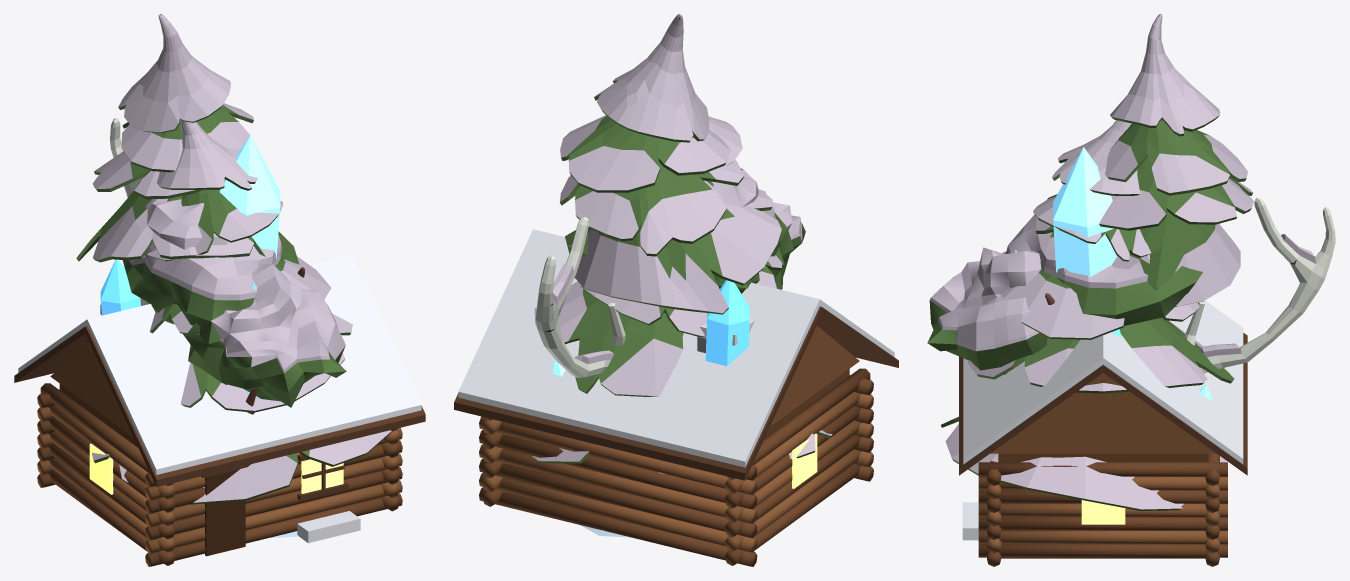
File: snow.glb
3 views of the same model, side by side, from view 1: azimuth 30°, elevation 25°; view 2: azimuth 150°, elevation 25°; view 3: azimuth 270°, elevation 25° (orthographic). The views are drawn at different scales.
Visible parts, largest first — view 1: cabin_a, tree_snow_a, pine_snow_b, pine_snow_a, ice_spikes_a, birch_dead_snow_a; view 2: cabin_a, pine_snow_b, pine_snow_a, birch_dead_snow_a, tree_snow_a, ice_spikes_a; view 3: cabin_a, pine_snow_b, pine_snow_a, tree_snow_a, ice_spikes_a, birch_dead_snow_a.
Boxes of the visible parts, x1,y1,x2,y2 form: cabin_a: (14, 254, 425, 566); tree_snow_a: (122, 198, 346, 414); pine_snow_b: (76, 14, 265, 262); pine_snow_a: (92, 120, 391, 504); ice_spikes_a: (100, 135, 280, 393); birch_dead_snow_a: (110, 118, 143, 197); cabin_a: (454, 229, 898, 566); pine_snow_b: (559, 14, 781, 314); pine_snow_a: (531, 116, 832, 473); birch_dead_snow_a: (535, 217, 625, 377); tree_snow_a: (565, 177, 805, 293); ice_spikes_a: (552, 280, 749, 376); cabin_a: (959, 300, 1247, 566); pine_snow_b: (1035, 14, 1253, 306); pine_snow_a: (941, 120, 1234, 510); tree_snow_a: (927, 214, 1202, 374); ice_spikes_a: (1015, 147, 1212, 400); birch_dead_snow_a: (1185, 198, 1335, 373).
Size of the model in its own units: 7.43 by 12 by 9.34.
Materials: 21 (3 with a texture image).
